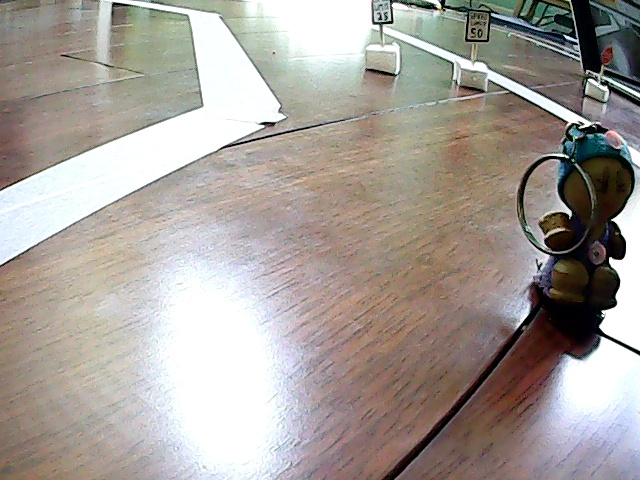pedestrain: (526, 117, 634, 335)
speed_25: (363, 1, 401, 81)
speed_50: (455, 10, 498, 93)
